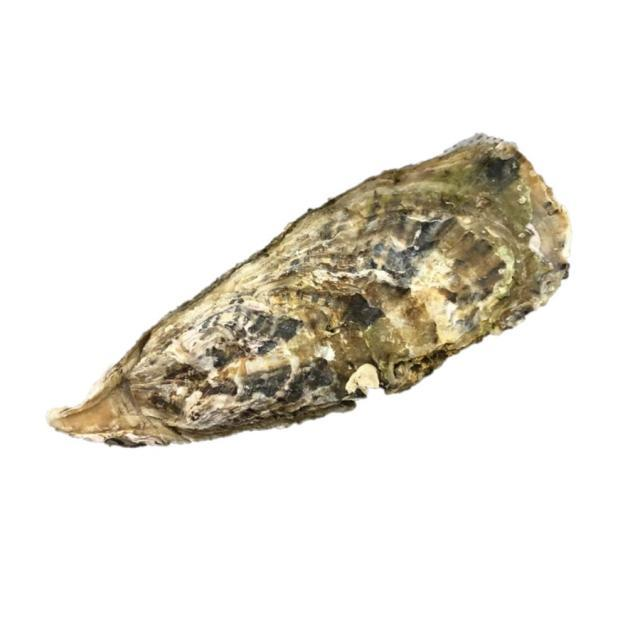Oyster- Indeterminate: (43, 133, 577, 454)
